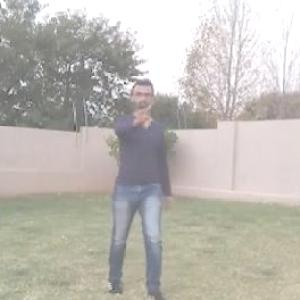takeoff-hand: (128, 95, 156, 132)
